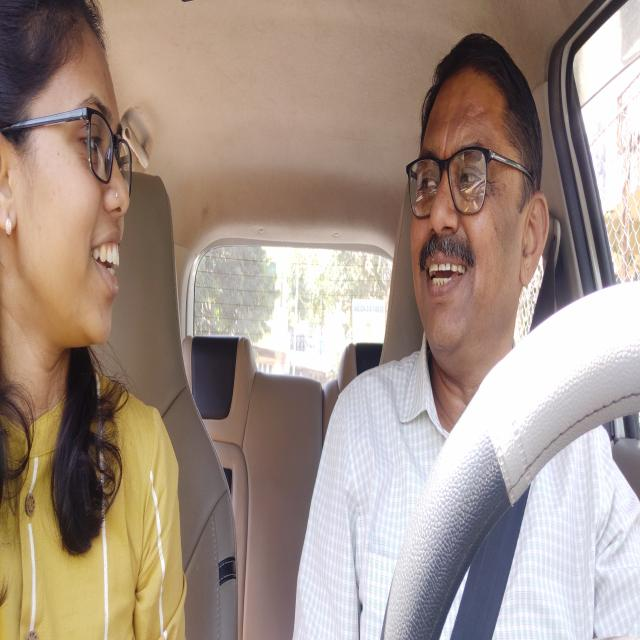talking: (406, 35, 548, 365)
